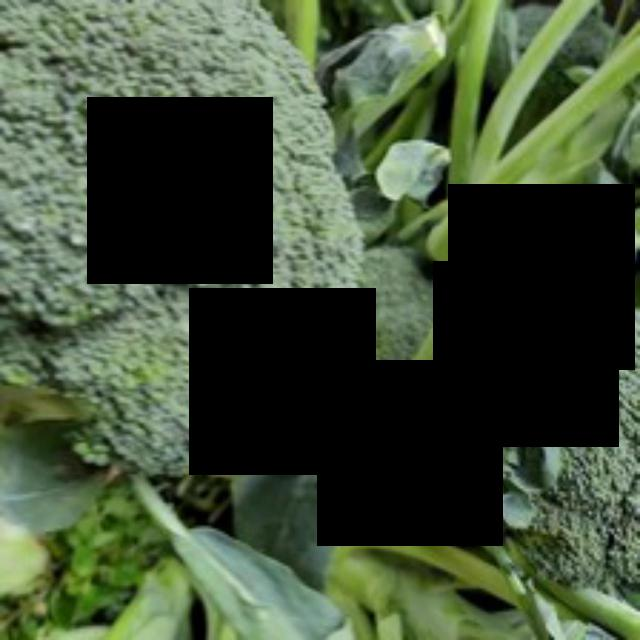broccoli: (0, 0, 364, 494)
